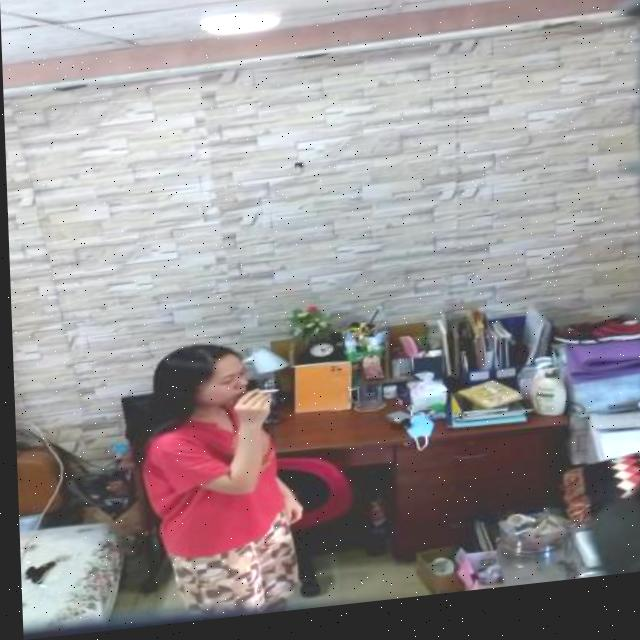cigarette: (254, 394, 277, 400)
